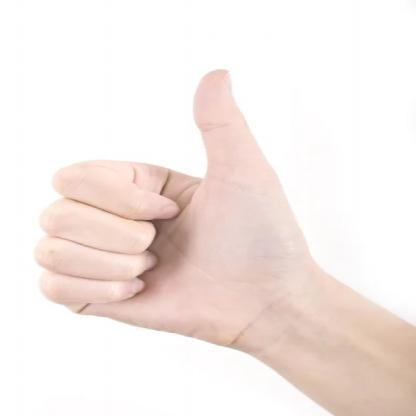thumb_up: (25, 66, 309, 341)
